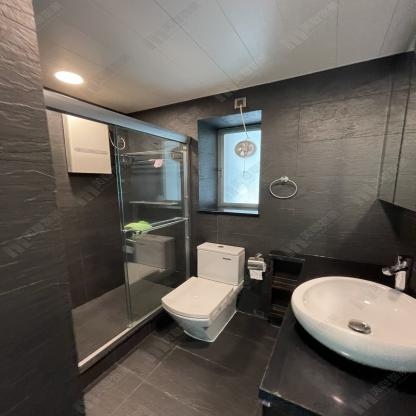Exhaust Fan: (234, 140, 258, 158)
Toilet: (160, 241, 247, 345)
Toilet Sink: (290, 275, 416, 376)
Water Cubicle: (43, 87, 193, 376)
Water Heater: (63, 113, 116, 176)
